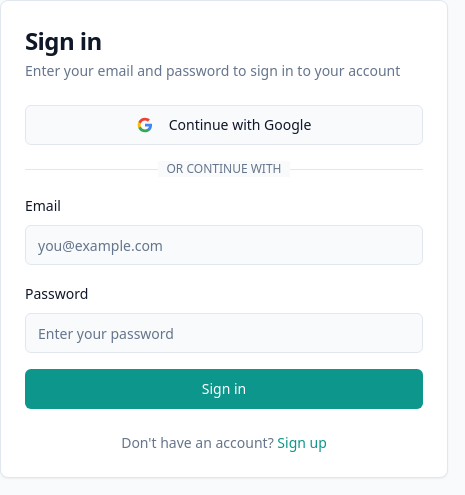
Test: SignInForm › should disable inputs while loading
In the field labelled "Email": (224, 245) [25,225,423,265], type "test@example.com"
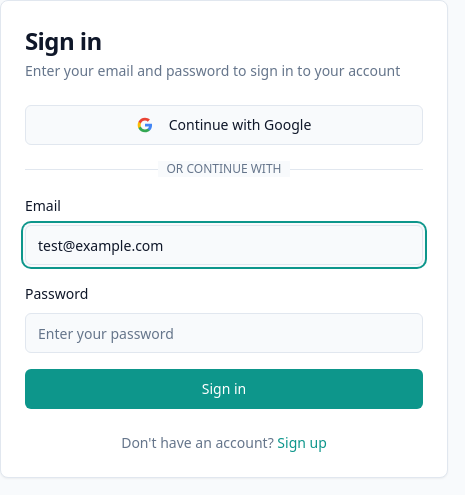
In the password field labelled "Password": (224, 333) [25,313,423,353], type "password123"
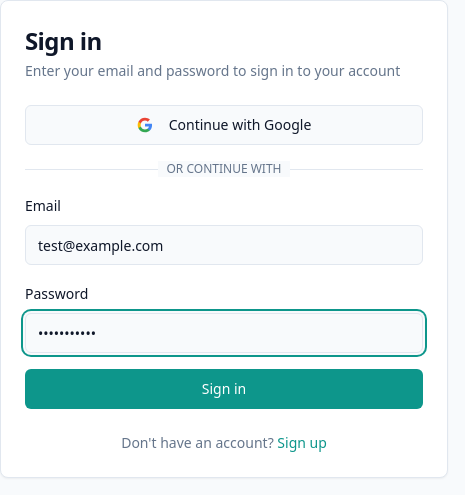
Click the button "Sign in": (224, 389) [25,369,423,409]
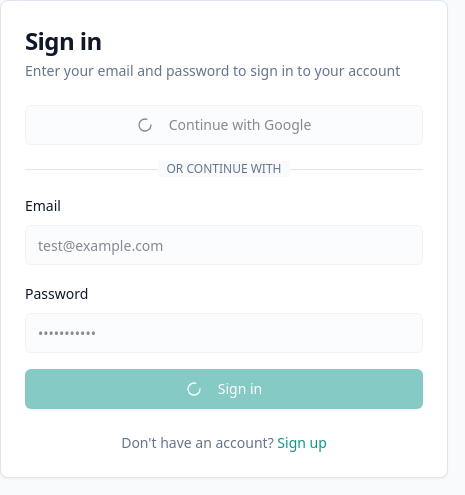
Expected: the field labelled "Email" is disabled, [25,225,423,265]
Expected: the password field labelled "Password" is disabled, [25,313,423,353]
